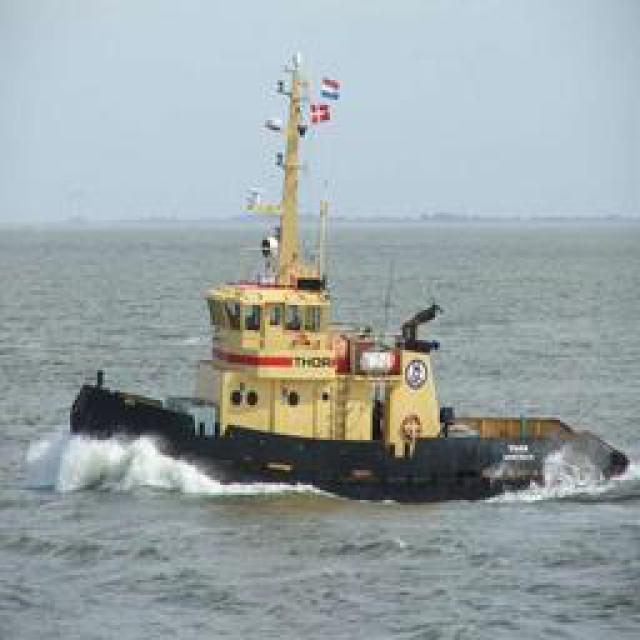Ship: (58, 33, 606, 498)
